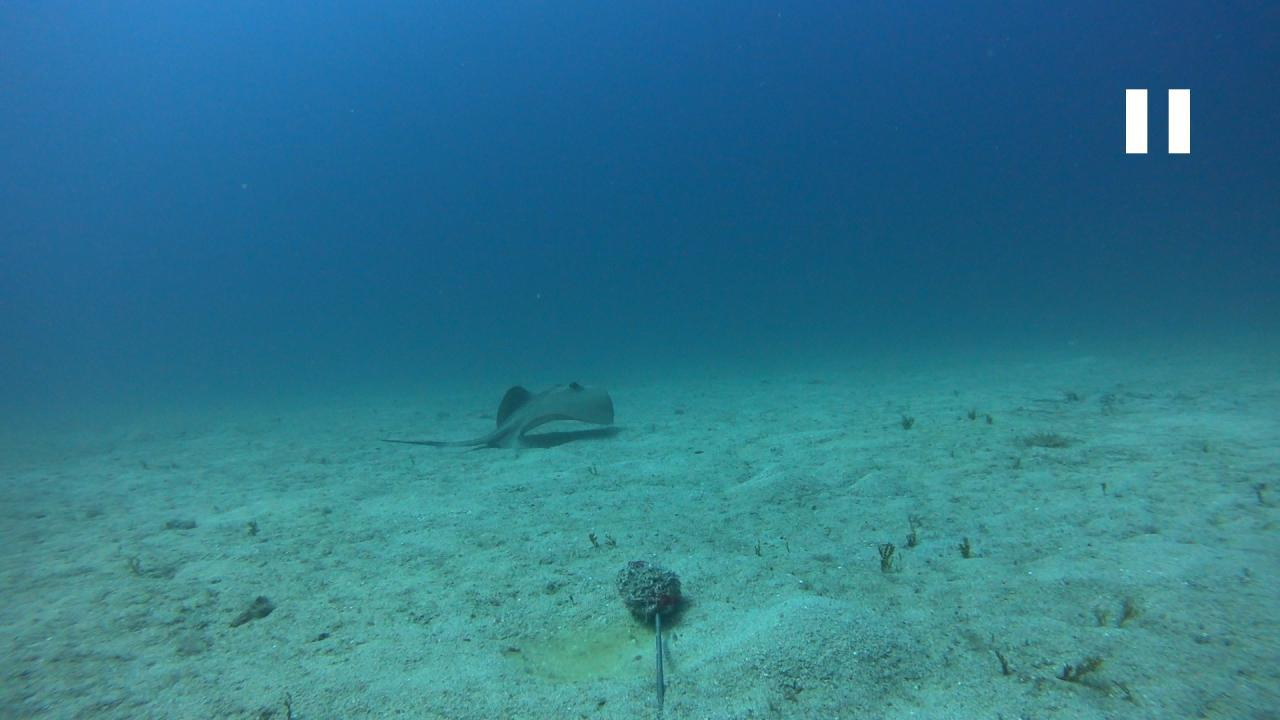dasyatis: (380, 382, 614, 447)
